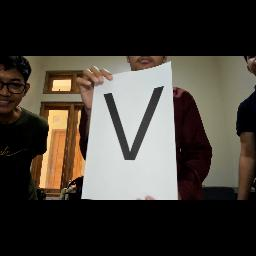v: (98, 83, 180, 171)
